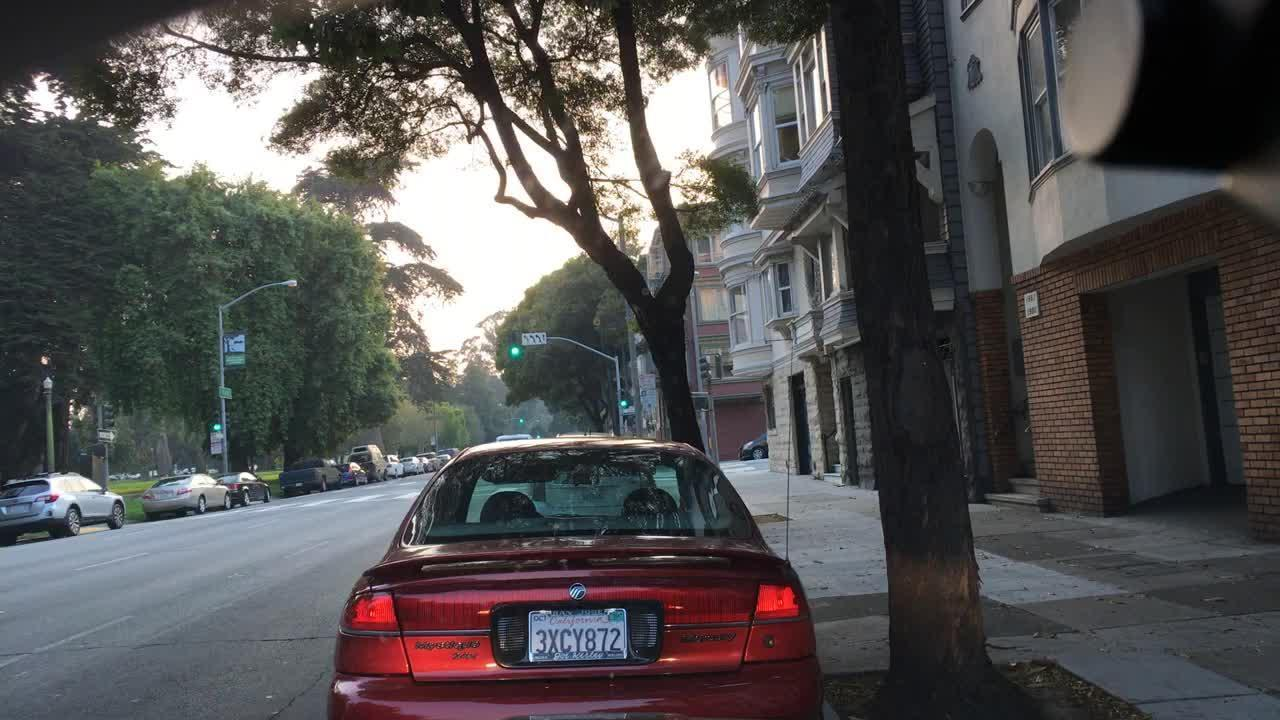Mercury: (566, 582, 590, 602)
